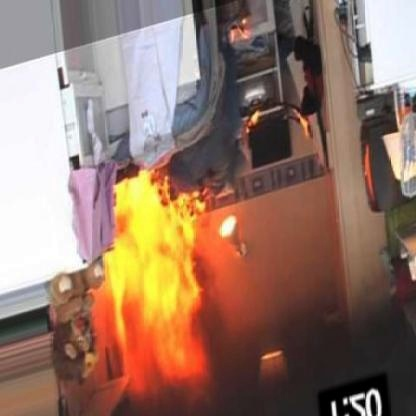fire: (74, 145, 254, 415)
